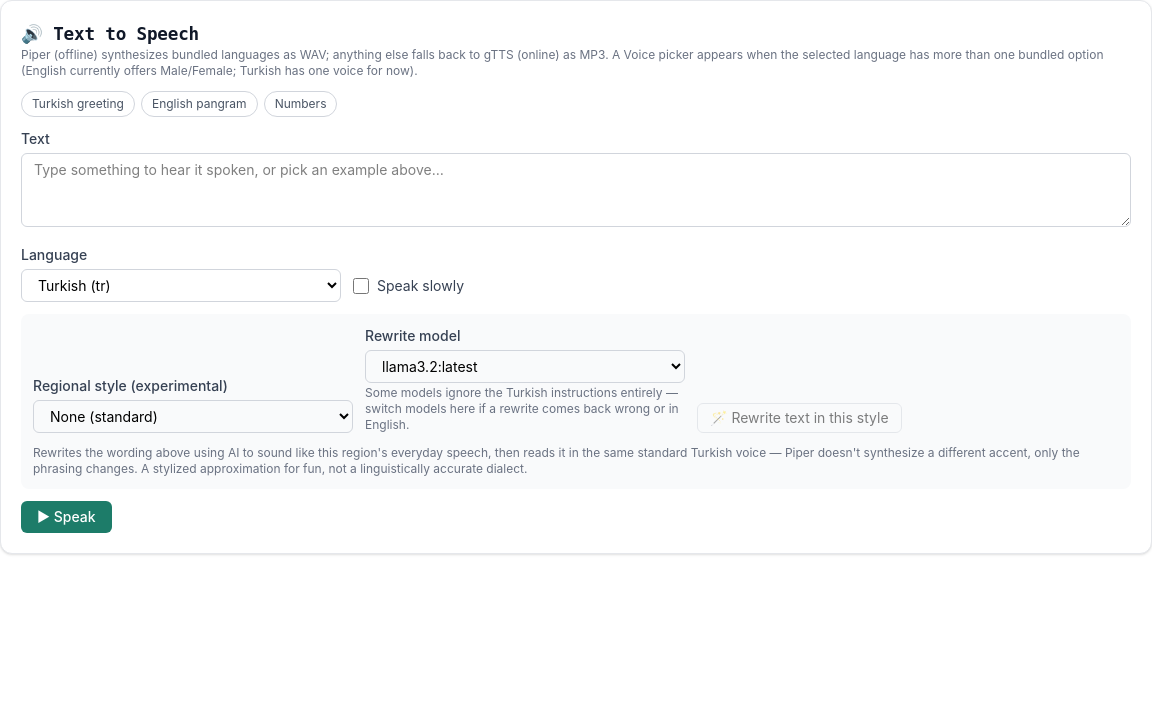
Test case: TextToSpeechCard rewrite › re-enables the Rewrite button after a failure (#597: no stuck 'Rewriting…')
In the text box labelled "Text": [576, 190] box [21,153,1131,227], type "Merhaba, nasılsın?"
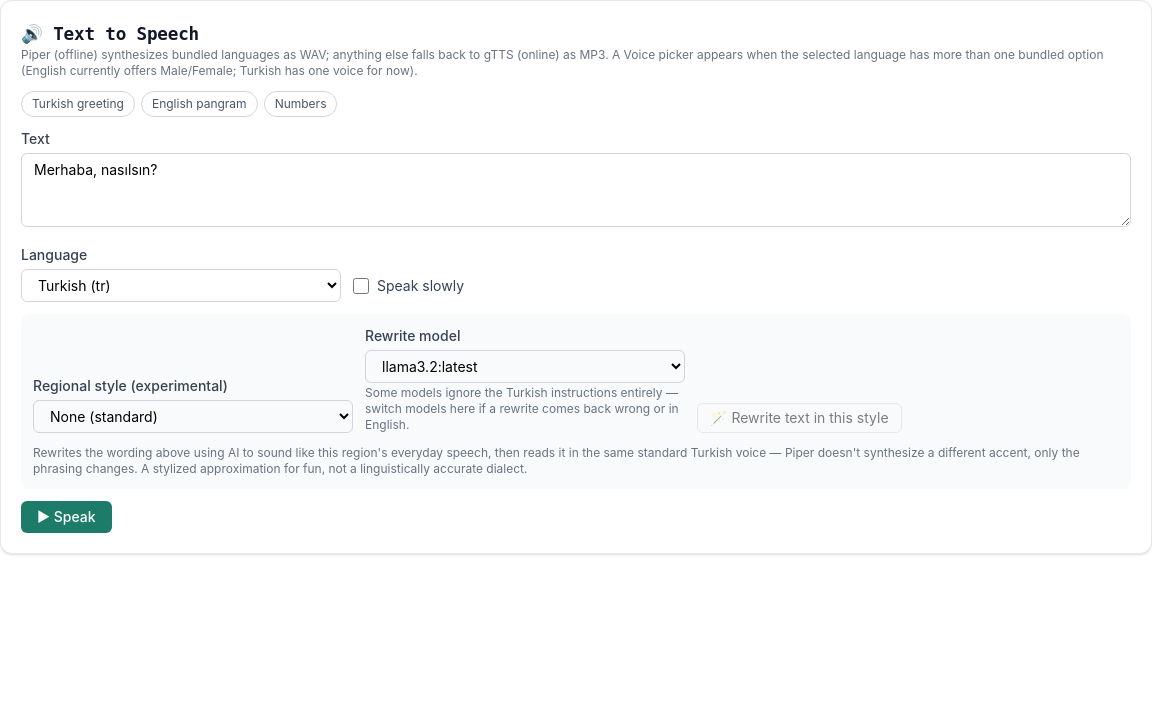
Select "Karadeniz" in the dropdown labelled "Regional style (experimental)": [193, 417] box [33,400,353,433]
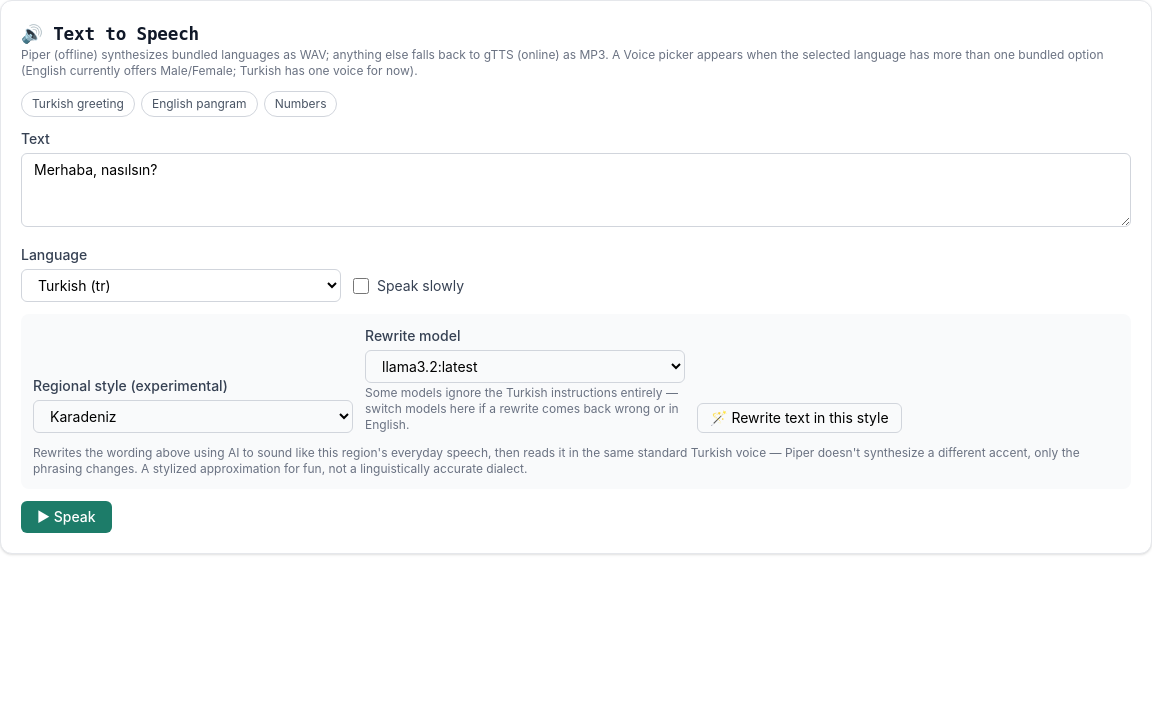
Click the button "🪄 Rewrite text in this style": [799, 418] box [697,403,902,433]
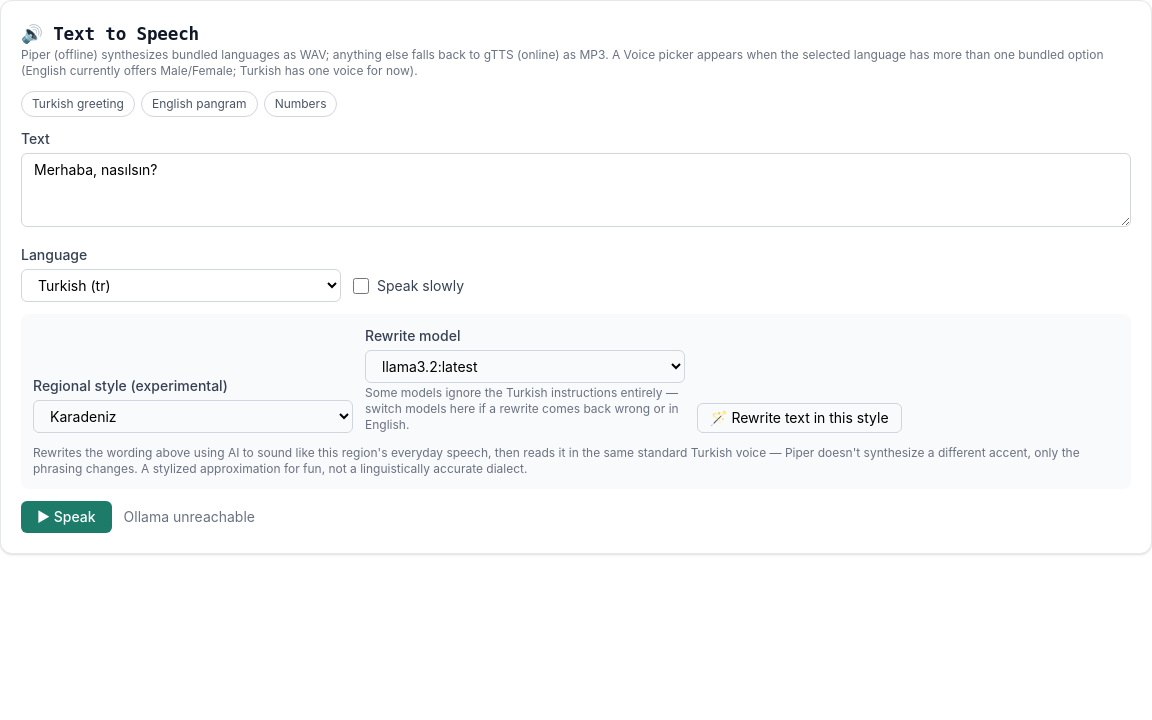
Expected: the button "🪄 Rewrite text in this style" is enabled, [697,403,902,433]
Expected: the text "Ollama unreachable" is shown, [124,507,255,527]
